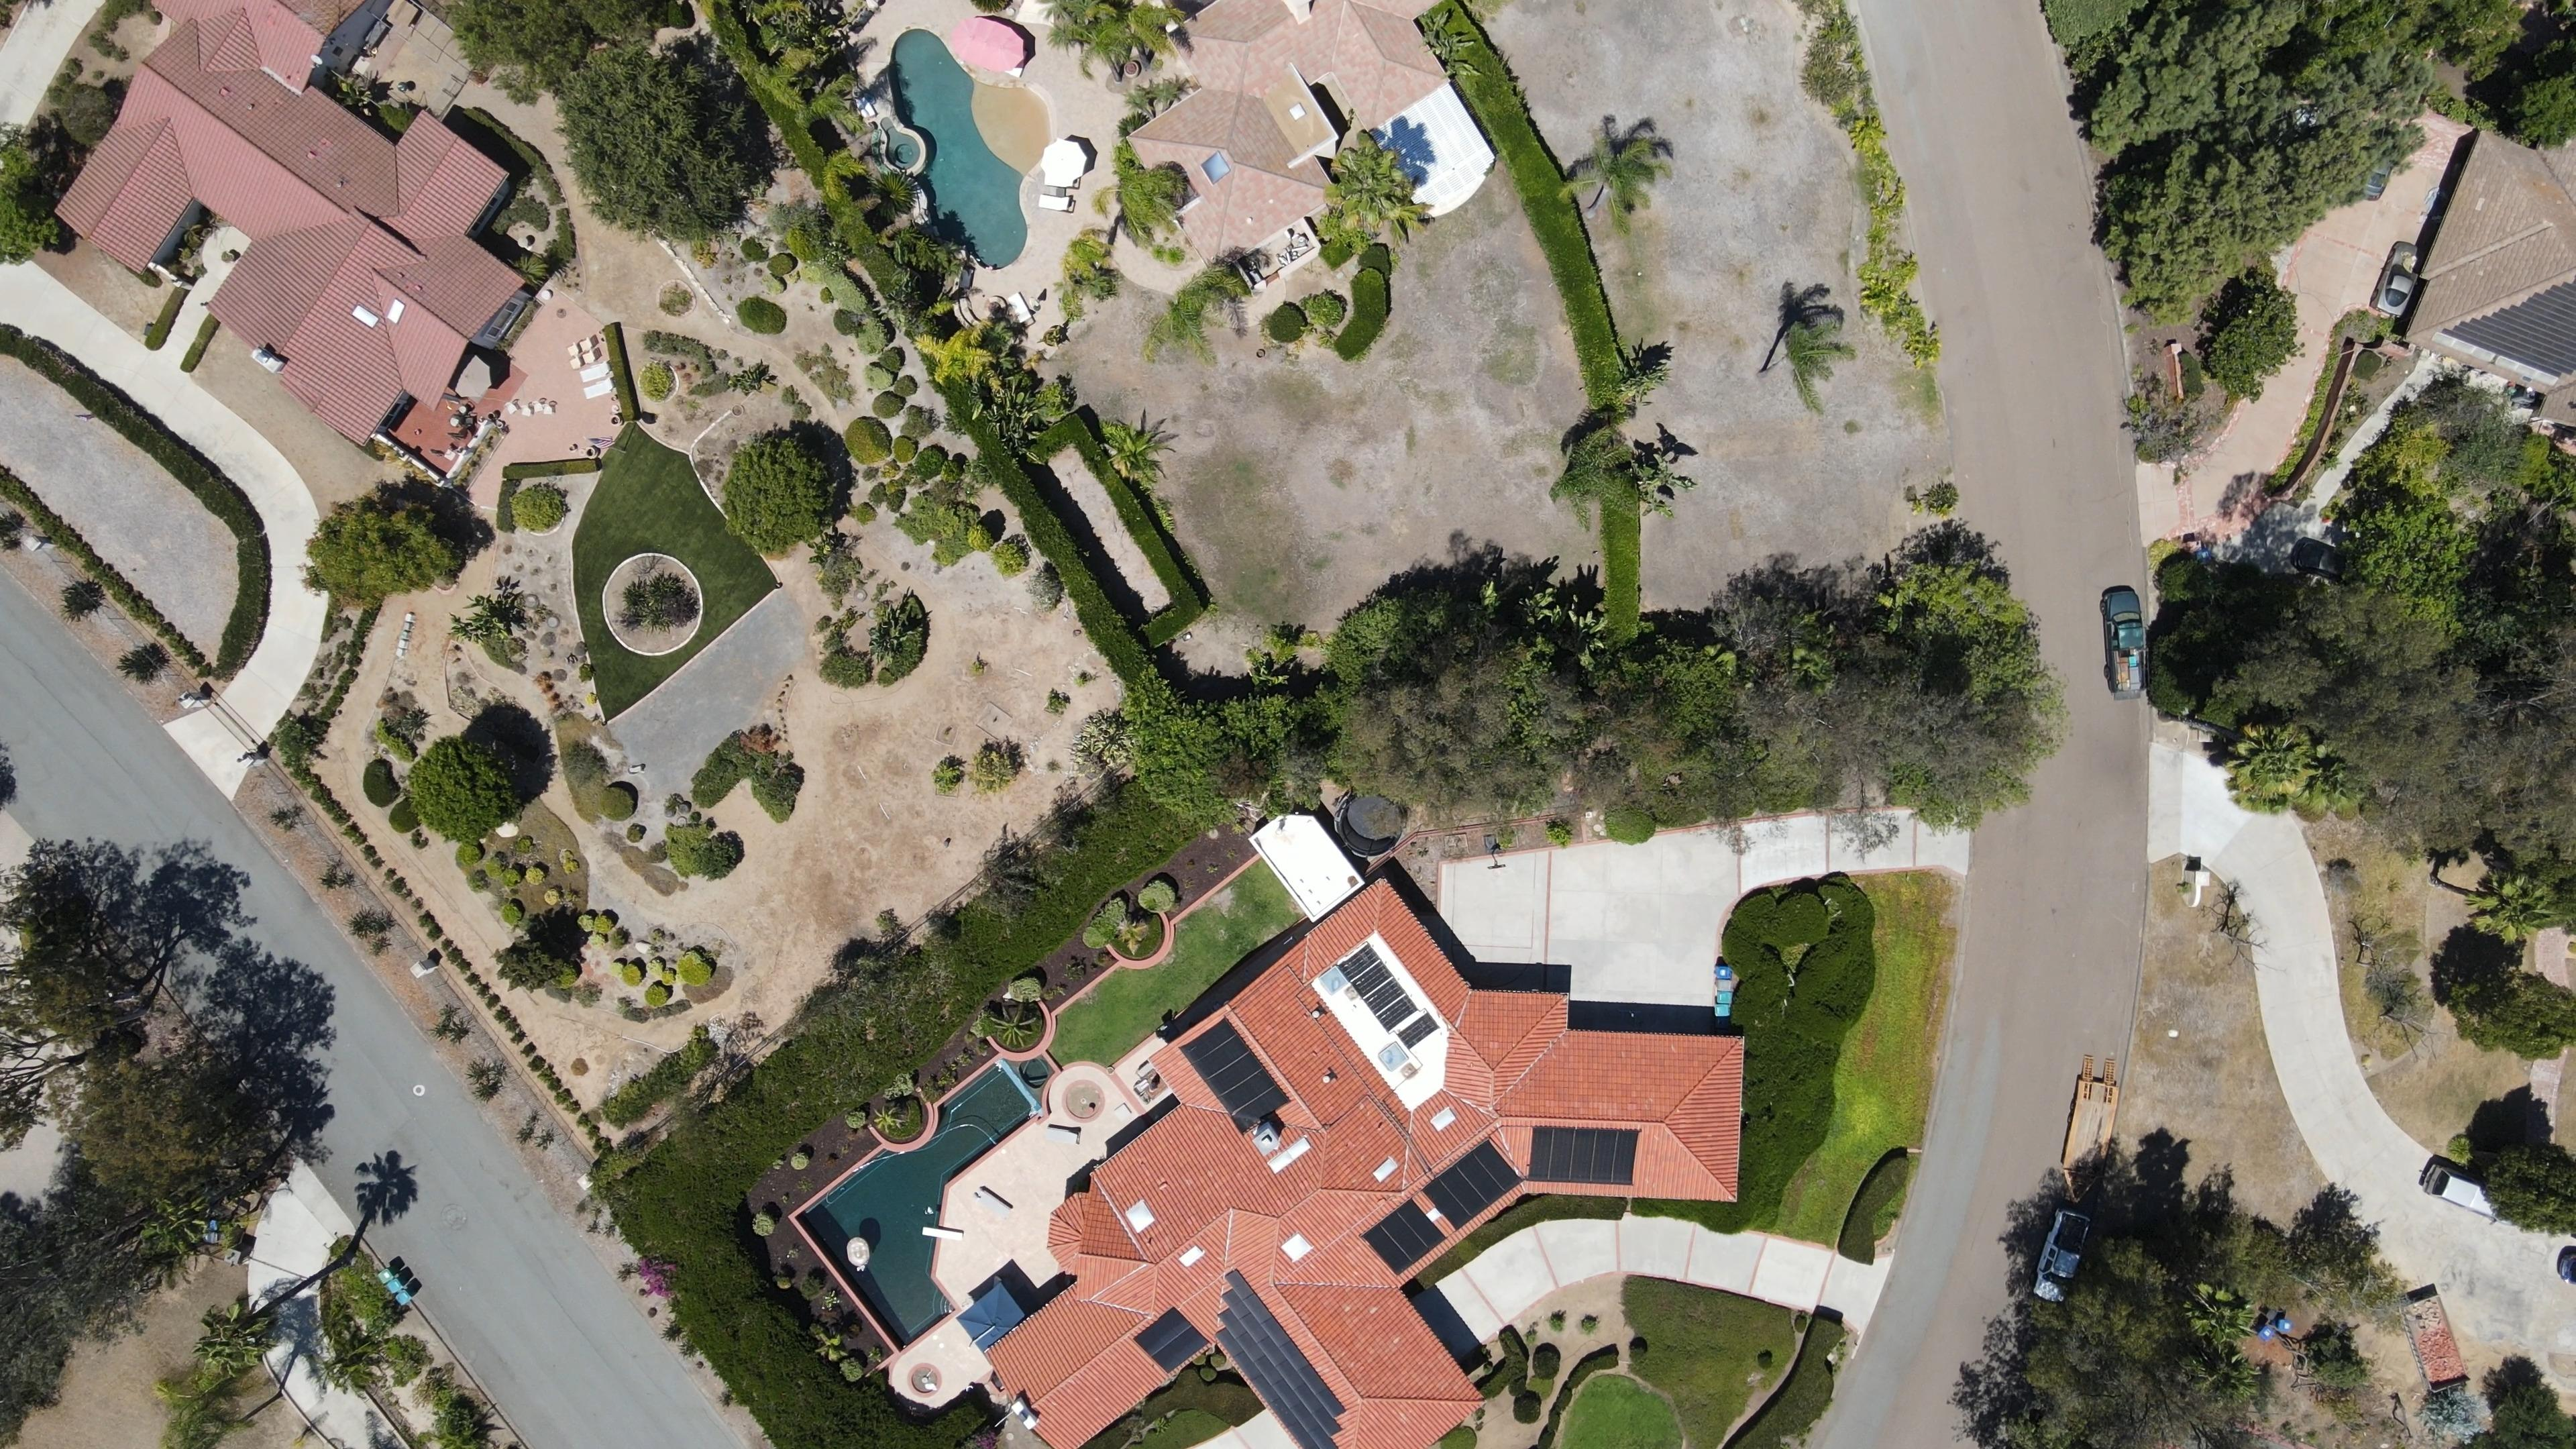solar-panels: (1214, 1269, 1346, 1449), (2440, 278, 2576, 379), (1178, 1016, 1290, 1134), (1421, 1139, 1523, 1231), (1529, 1125, 1640, 1185), (1361, 1200, 1447, 1276), (1132, 1306, 1210, 1375), (1338, 941, 1380, 982), (1364, 977, 1407, 1016), (1396, 1012, 1440, 1049), (1376, 994, 1417, 1033), (1352, 961, 1392, 998)
